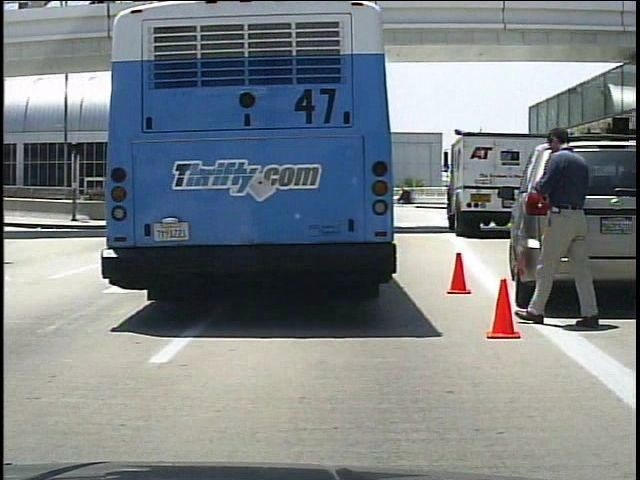person: (513, 118, 601, 338)
